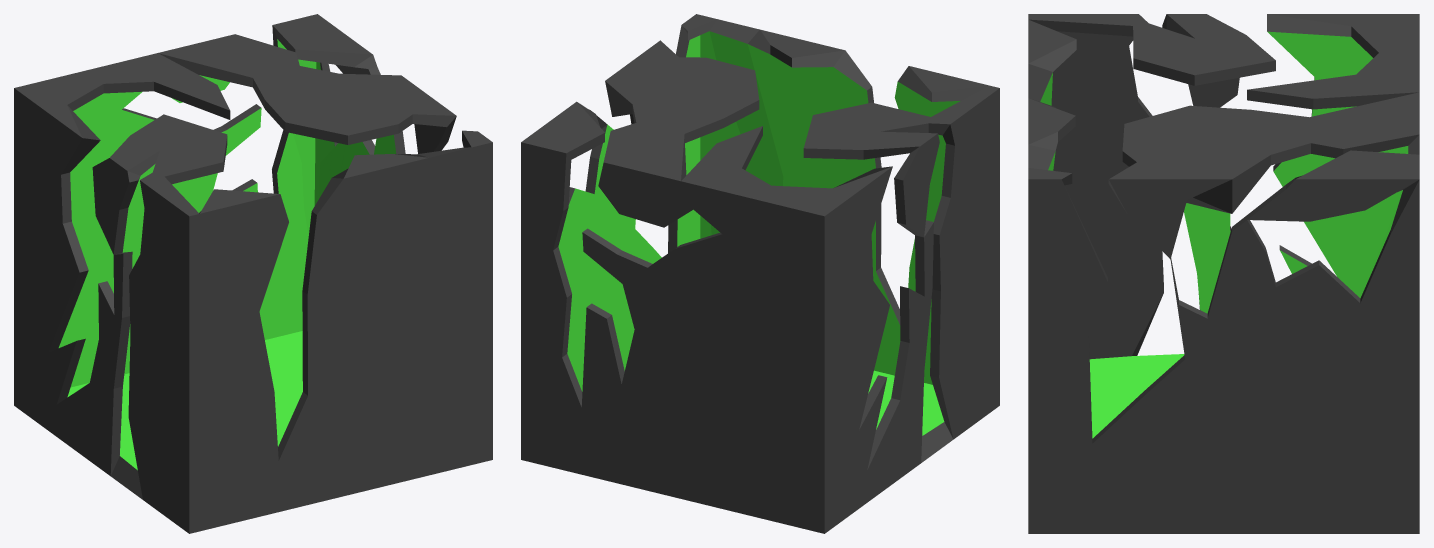
The model's file is GreenCrack2.fbx.
3 renders of one model, left to right at view 1: azimuth 30°, elevation 25°; view 2: azimuth 150°, elevation 25°; view 3: azimuth 270°, elevation 25°, orthographic. The views are drawn at different scales.
Parts seen in each view (by area): view 1: Green_Crack2; view 2: Green_Crack2; view 3: Green_Crack2.
Part boxes in pixels (x1,y1,x2,y2): Green_Crack2: (14,14,492,533); Green_Crack2: (521,14,999,533); Green_Crack2: (1028,14,1419,533).
Size of the model in its own units: 200 by 200 by 200.
